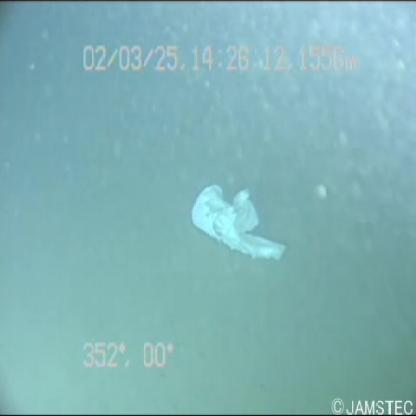Rác: (178, 173, 294, 280)
